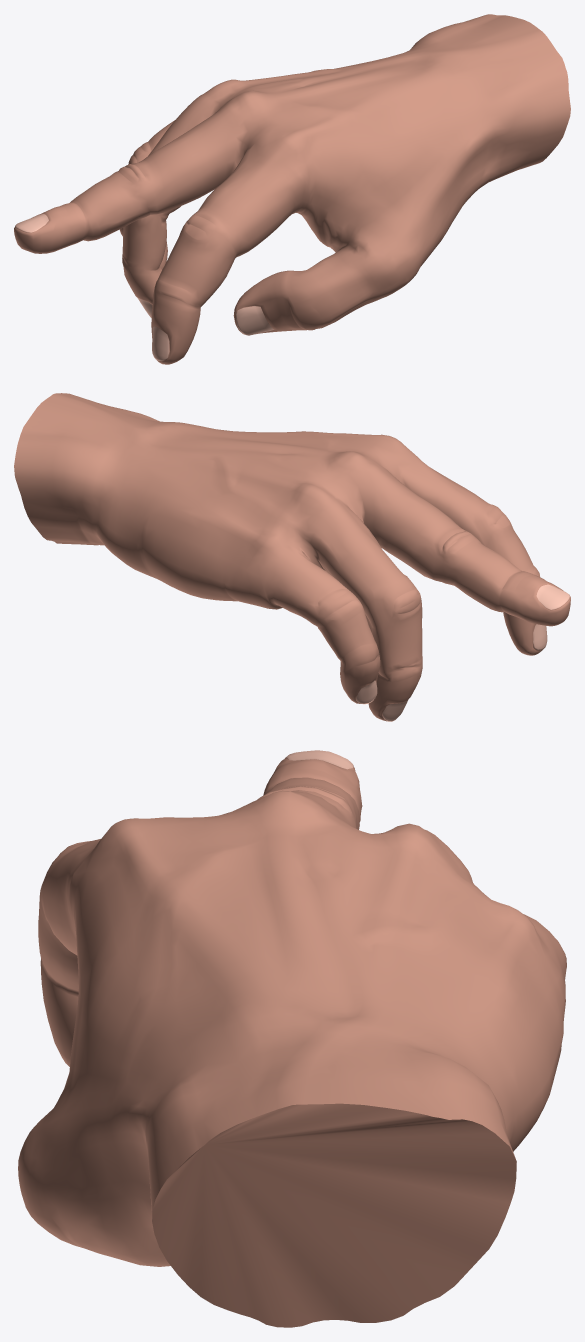
The model's file is hand_21.obj.
The picture shows the model from 3 angles, top to bottom: view 1: azimuth 30°, elevation 25°; view 2: azimuth 150°, elevation 25°; view 3: azimuth 270°, elevation 25°; orthographic projection. The views are drawn at different scales.
Parts seen in each view (by area): view 1: Figure_2; view 2: Figure_2; view 3: Figure_2.
Part boxes in pixels (x1=…): Figure_2: x1=14, y1=14, x2=570, y2=364; Figure_2: x1=14, y1=393, x2=570, y2=721; Figure_2: x1=18, y1=750, x2=566, y2=1327.
Bounding box in the file's own units: 0.8891 × 0.3751 × 0.406.
